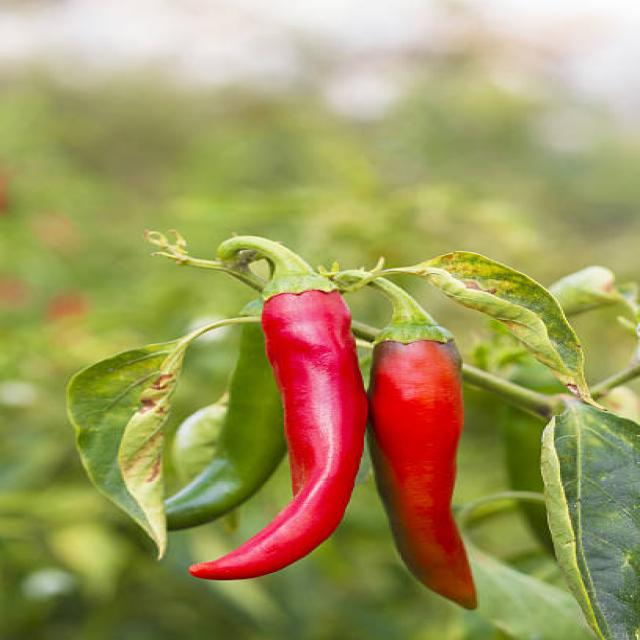Ripe: (191, 291, 367, 579), (372, 338, 477, 611)
